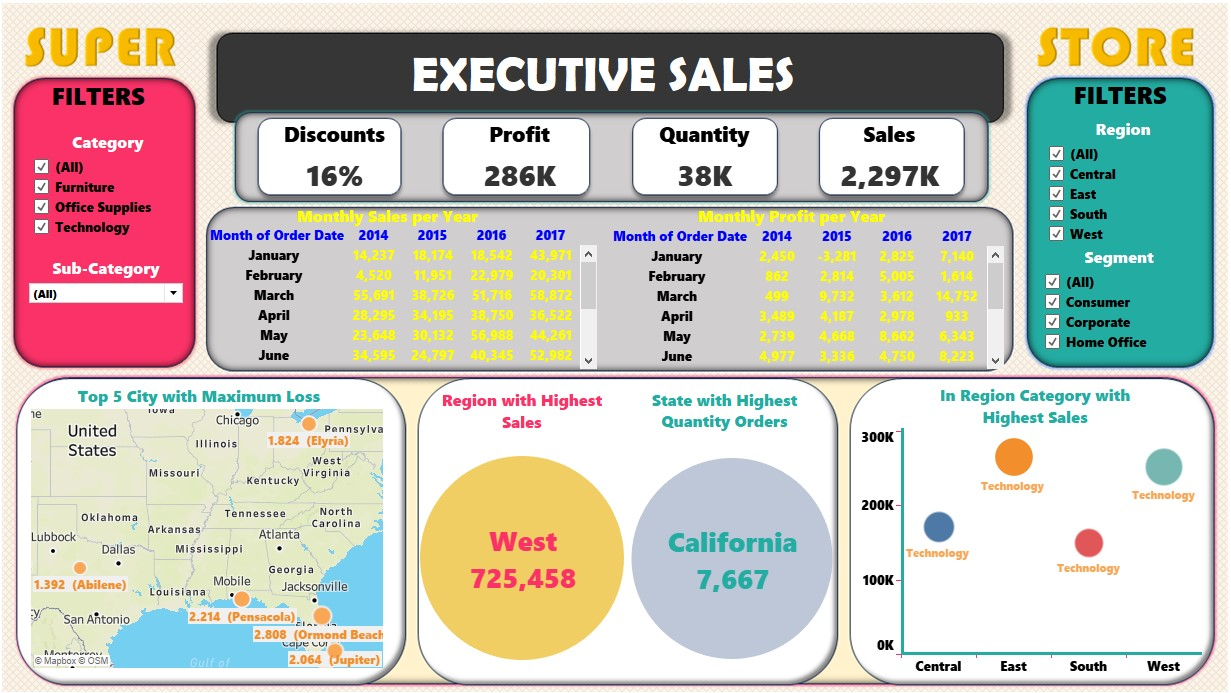

The page's visual inventory and layout, read from the dashboard file:
{"tool":"tableau","page":{"name":"SUPERSTORE_ANALYSIS_DASHBOARD","canvas":[1250,750],"ordinal":0},"visuals":[{"type":"image","param":"Image/Presentation1.png","box":[8,8,1234,734]},{"type":"text","box":[419,67,549,67]},{"type":"legend","title":"State with Highest Quantity","param":"[federated.1ntldke0l3gsmi1atjdra0s51yba].[none:State:nk]","box":[486,70,140,38]},{"type":"text","box":[1081,105,100,32]},{"type":"text","box":[59,106,100,32]},{"type":"worksheet","title":"KPI","mark":"Automatic","box":[252,136,740,82]},{"type":"filter","title":"Top 5 City loss","param":"[federated.1ntldke0l3gsmi1atjdra0s51yba].[none:Region:nk]","box":[1053,145,160,140]},{"type":"filter","title":"Region with Highest Sales","param":"[federated.1ntldke0l3gsmi1atjdra0s51yba].[none:Category:nk]","box":[38,158,160,106]},{"type":"text","box":[304,228,186,30]},{"type":"text","box":[705,228,193,30]},{"type":"worksheet","title":"Monthly Sales per year","mark":"Automatic","rows":["Order Date"],"cols":["Order Date"],"box":[214,252,400,144]},{"type":"worksheet","title":"Monthly Profit per year","mark":"Automatic","rows":["Order Date"],"cols":["Order Date"],"box":[617,253,417,143]},{"type":"filter","title":"Region with Highest Sales","param":"[federated.1ntldke0l3gsmi1atjdra0s51yba].[none:Segment:nk]","box":[1049,273,160,112]},{"type":"filter","title":"Region with Highest Sales","param":"[federated.1ntldke0l3gsmi1atjdra0s51yba].[none:Sub-Category:nk]","box":[36,284,160,85]},{"type":"text","box":[85,409,260,27]},{"type":"text","box":[427,410,210,56]},{"type":"text","box":[616,410,237,55]},{"type":"text","box":[947,411,196,44]},{"type":"worksheet","title":"Top 5 City loss","mark":"Automatic","box":[41,436,352,259]},{"type":"worksheet","title":"In Region Categ with Highest Sales","mark":"Shape","rows":["Sales"],"cols":["Category","Region"],"box":[863,455,349,248]},{"type":"worksheet","title":"Region with Highest Sales","mark":"Circle","box":[420,483,224,204]},{"type":"worksheet","title":"State with Highest Quantity","mark":"Circle","box":[633,485,231,201]}]}

Visuals, with their boxes in screenshot pixels (x1, y1, x2, y2):
image: (x1=43, y1=0, x2=1208, y2=688)
text: (x1=431, y1=50, x2=949, y2=114)
"State with Highest Quantity" legend: (x1=494, y1=53, x2=626, y2=89)
text: (x1=1056, y1=86, x2=1150, y2=117)
text: (x1=91, y1=87, x2=185, y2=117)
"KPI" worksheet: (x1=273, y1=116, x2=972, y2=193)
"Top 5 City loss" filter: (x1=1029, y1=124, x2=1180, y2=256)
"Region with Highest Sales" filter: (x1=71, y1=136, x2=222, y2=236)
text: (x1=322, y1=202, x2=498, y2=231)
text: (x1=701, y1=202, x2=883, y2=231)
"Monthly Sales per year" worksheet: (x1=237, y1=225, x2=615, y2=361)
"Monthly Profit per year" worksheet: (x1=618, y1=226, x2=1011, y2=361)
"Region with Highest Sales" filter: (x1=1025, y1=245, x2=1176, y2=351)
"Region with Highest Sales" filter: (x1=69, y1=255, x2=220, y2=335)
text: (x1=115, y1=373, x2=361, y2=399)
text: (x1=438, y1=374, x2=637, y2=427)
text: (x1=617, y1=374, x2=840, y2=426)
text: (x1=929, y1=375, x2=1114, y2=417)
"Top 5 City loss" worksheet: (x1=74, y1=399, x2=406, y2=643)
"In Region Categ with Highest Sales" worksheet (Shape marks): (x1=850, y1=417, x2=1179, y2=651)
"Region with Highest Sales" worksheet (Circle marks): (x1=432, y1=443, x2=643, y2=636)
"State with Highest Quantity" worksheet (Circle marks): (x1=633, y1=445, x2=851, y2=635)
